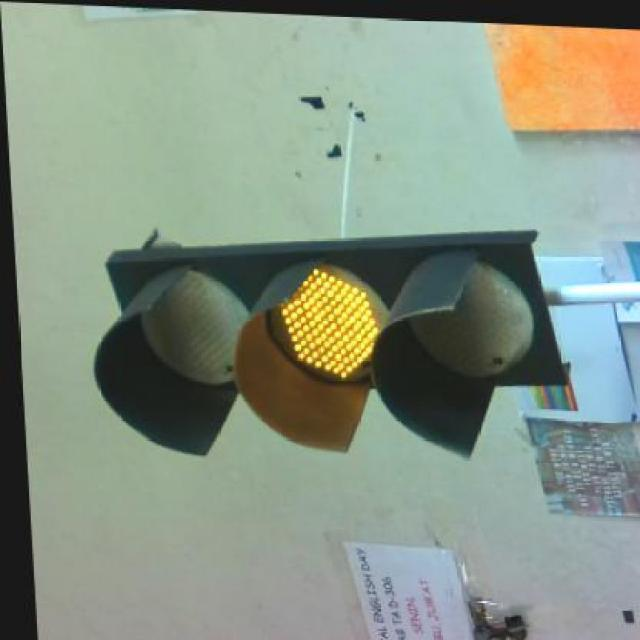yellow_light: (94, 231, 569, 456)
